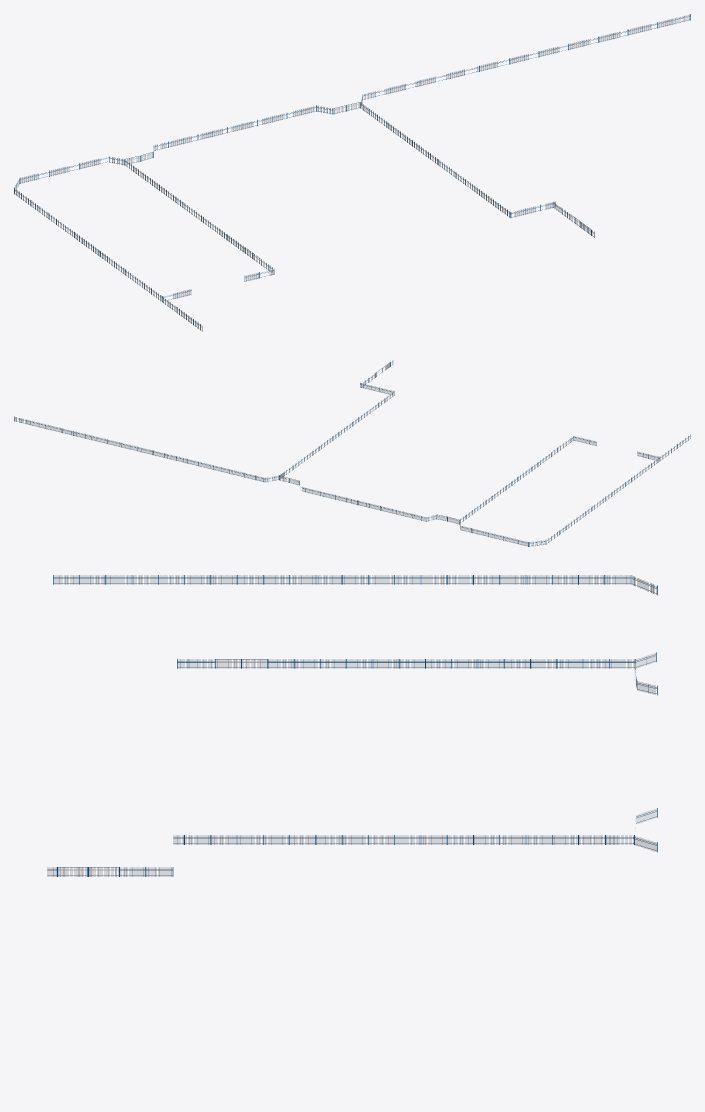
File: fence.glb
The picture shows the model from 3 angles, top to bottom: view 1: azimuth 30°, elevation 25°; view 2: azimuth 150°, elevation 25°; view 3: azimuth 270°, elevation 25°; orthographic projection. The views are drawn at different scales.
Bounding box in the file's own units: 180 × 1.6 × 90.27.
